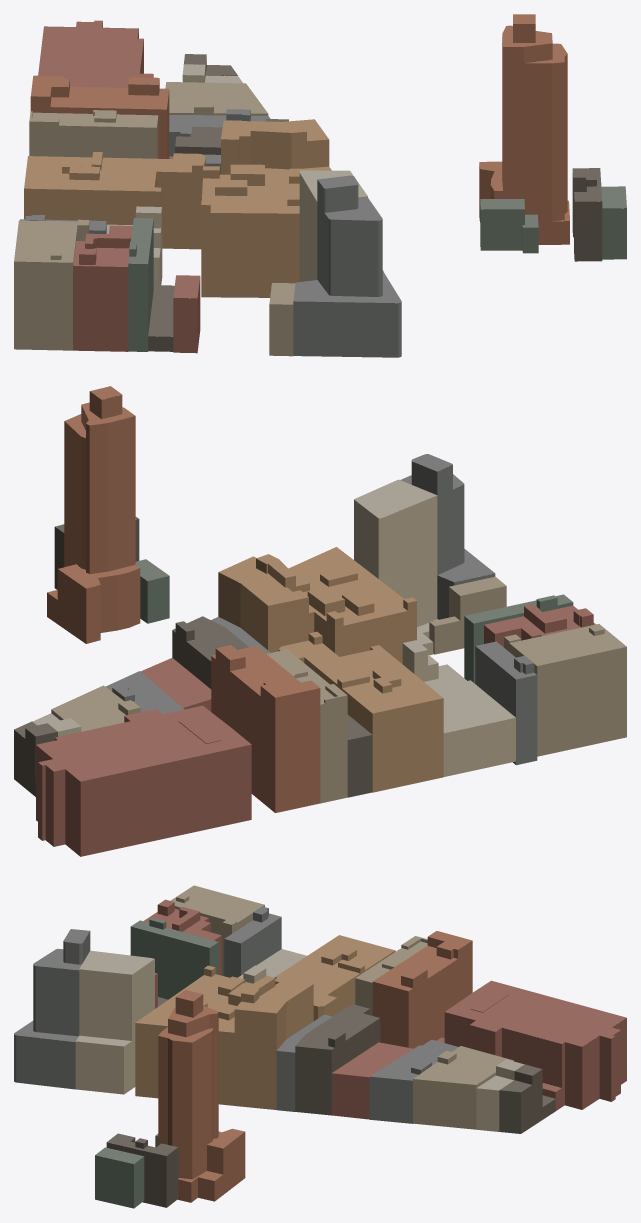
The model's file is tile-2_1.glb.
The picture shows the model from 3 angles, top to bottom: view 1: azimuth 30°, elevation 25°; view 2: azimuth 150°, elevation 25°; view 3: azimuth 270°, elevation 25°; orthographic projection. The views are drawn at different scales.
Parts seen in each view (by area): view 1: wall, roof; view 2: wall, roof; view 3: wall, roof.
Part boxes in pixels (x1,y1,x2,y2): wall: [14, 22, 626, 357]; roof: [14, 14, 626, 336]; wall: [14, 391, 626, 856]; roof: [14, 386, 626, 781]; wall: [14, 896, 626, 1208]; roof: [14, 885, 626, 1182].
Size of the model in its own units: 212 by 76 by 225.
